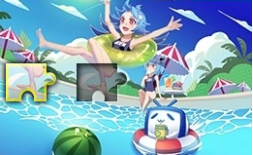gap: (76, 63, 127, 101)
